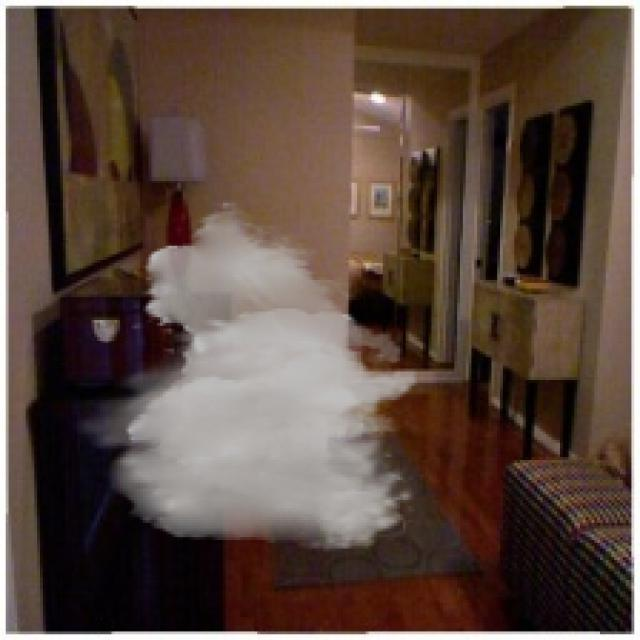Smoke: (68, 199, 420, 552)
